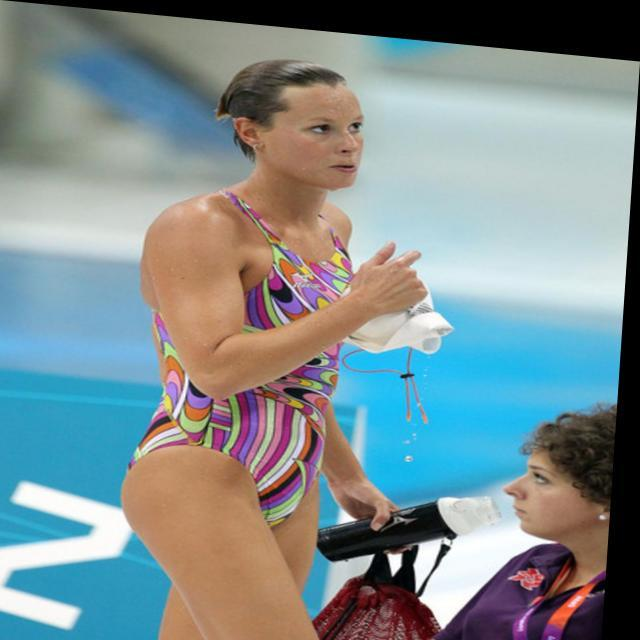Nonhelmet: (212, 55, 369, 193)
